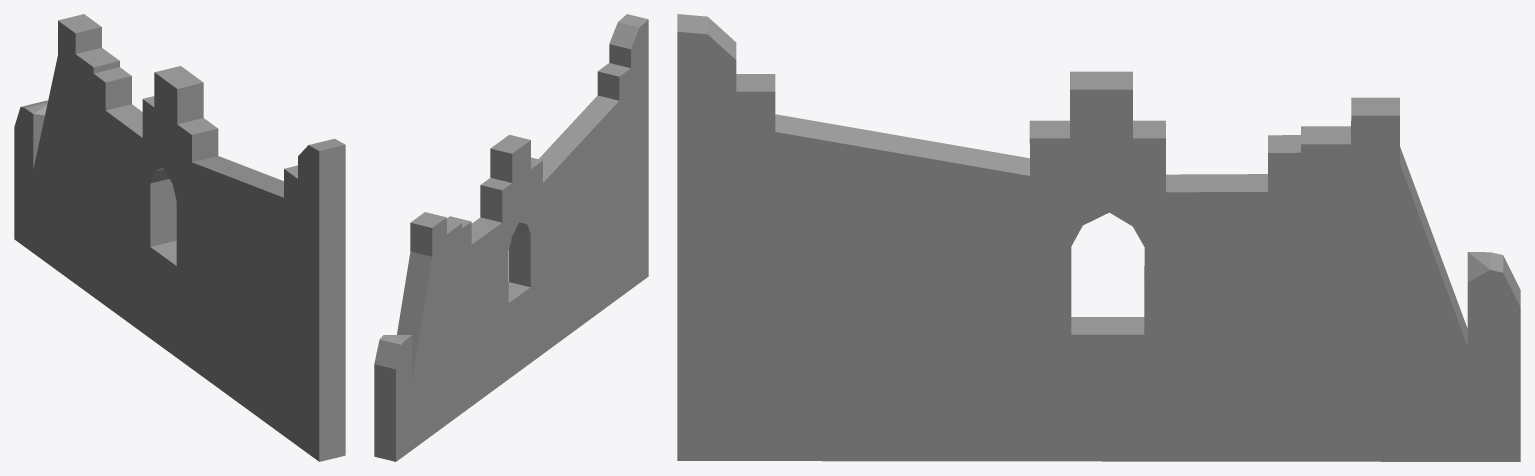
Rendered from wall_4.fbx.
3 views of the same model, side by side, from view 1: azimuth 30°, elevation 25°; view 2: azimuth 150°, elevation 25°; view 3: azimuth 270°, elevation 25° (orthographic). The views are drawn at different scales.
Parts seen in each view (by area): view 1: Object.018; view 2: Object.018; view 3: Object.018.
Boxes of the visible parts, x1,y1,x2,y2 form: Object.018: (14,14,345,461); Object.018: (374,14,648,461); Object.018: (677,14,1520,461).
Size of the model in its own units: 60 by 678 by 1204.
